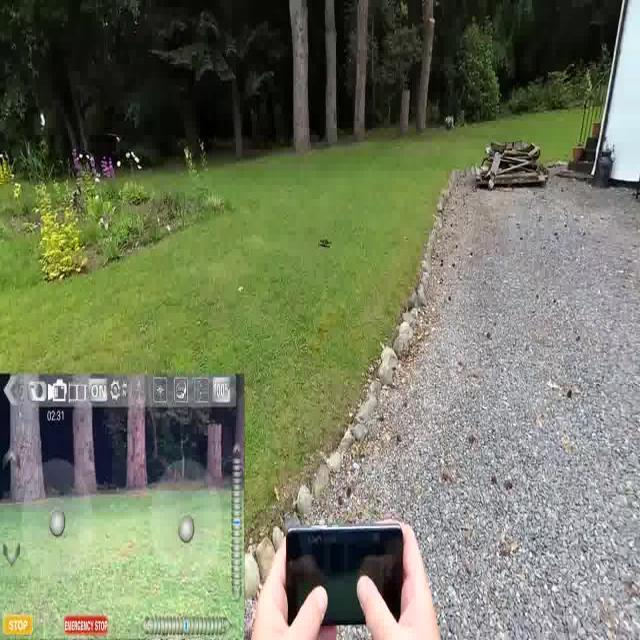drones: (316, 223, 336, 260)
